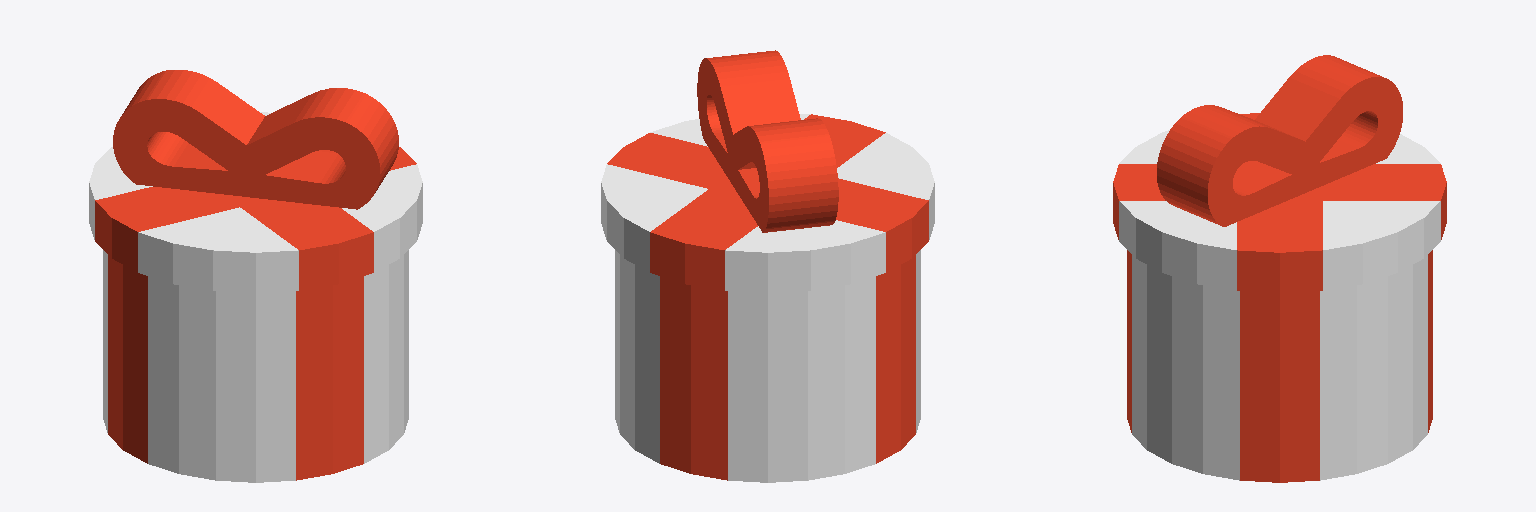
The model's file is presentRound.obj.
The picture shows the model from 3 angles: view 1: azimuth 30°, elevation 25°; view 2: azimuth 150°, elevation 25°; view 3: azimuth 270°, elevation 25°; orthographic projection.
Parts seen in each view (by area): view 1: Group, lid, tie; view 2: Group, lid, tie; view 3: Group, lid, tie.
Boxes of the visible parts, box(x1,y1,x2,y2) form: Group: box(103, 250, 408, 482); lid: box(89, 112, 422, 293); tie: box(113, 70, 398, 209); Group: box(615, 250, 920, 482); lid: box(601, 114, 934, 293); tie: box(697, 50, 838, 232); Group: box(1127, 250, 1432, 482); lid: box(1113, 113, 1446, 293); tie: box(1157, 55, 1402, 226).
Size of the model in its own units: 0.361 by 0.3873 by 0.361.